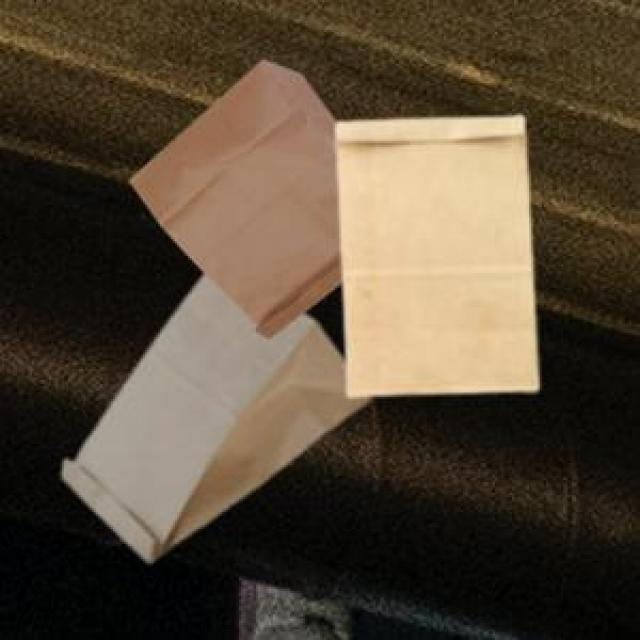Paper -Biodegradable-: (61, 273, 375, 562), (128, 56, 349, 339), (335, 114, 537, 394)
